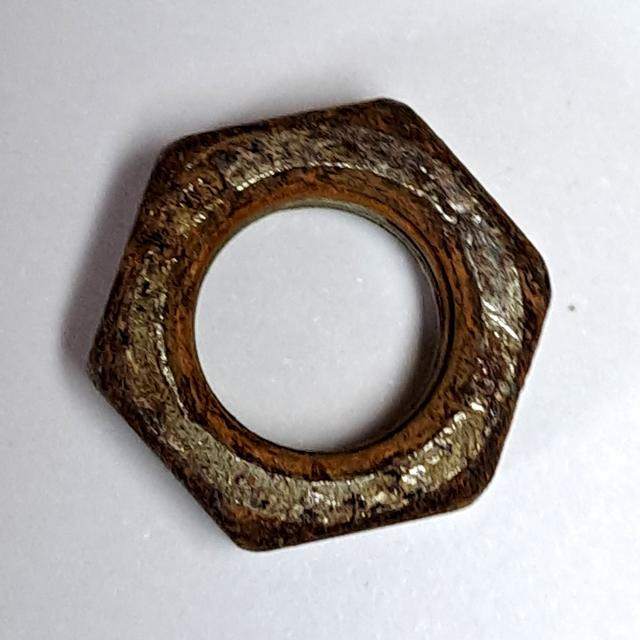Rust: (70, 89, 566, 559)
